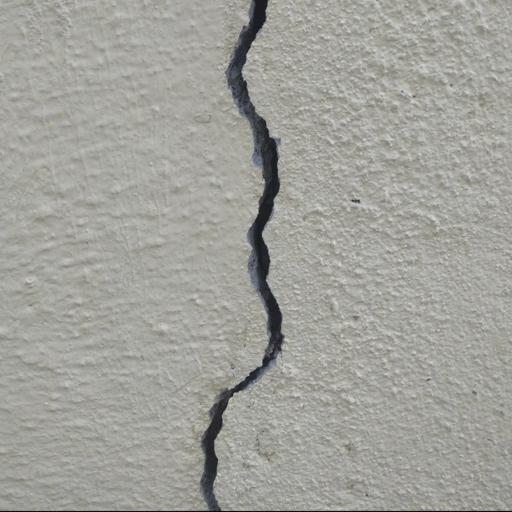major_crack: (191, 0, 294, 512)
